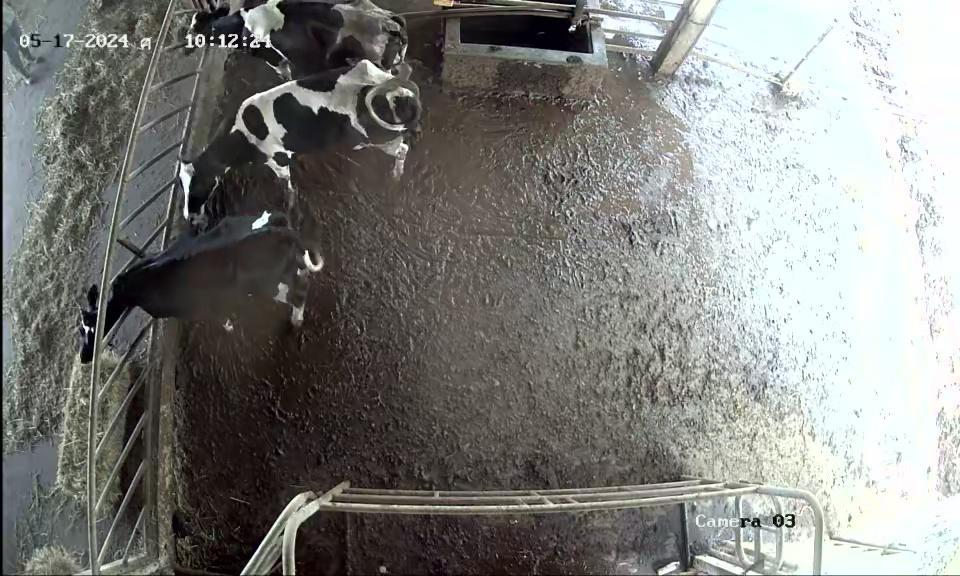eat: (61, 263, 163, 373)
stand: (162, 54, 442, 223), (177, 2, 422, 68)
